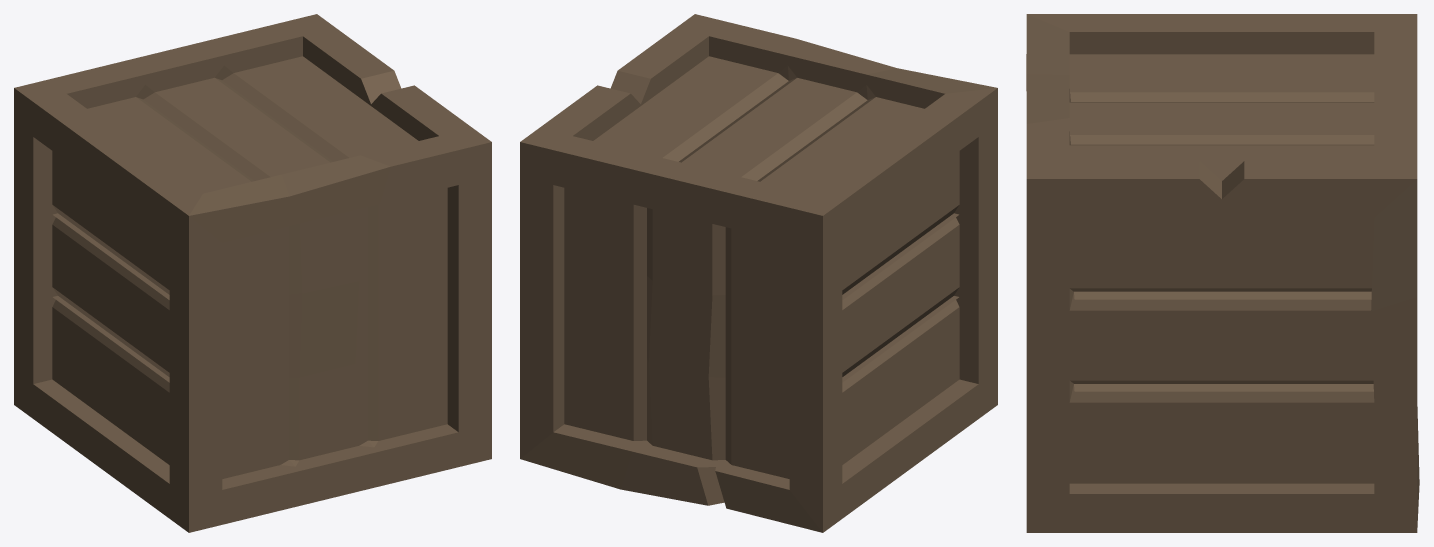
Rendered from crate.glb.
The picture shows the model from 3 angles, left to right: view 1: azimuth 30°, elevation 25°; view 2: azimuth 150°, elevation 25°; view 3: azimuth 270°, elevation 25°; orthographic projection. The views are drawn at different scales.
Parts seen in each view (by area): view 1: Cube; view 2: Cube; view 3: Cube.
Part boxes in pixels (box(x1,y1,x2,y2)): Cube: box(14, 14, 491, 532); Cube: box(520, 14, 997, 532); Cube: box(1026, 14, 1419, 532).
Bounding box in the file's own units: 1.2 × 1.22 × 1.21.
